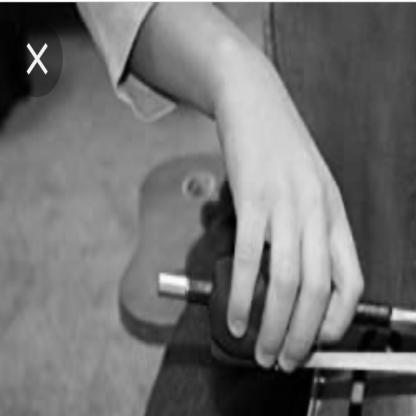good: (191, 121, 368, 378)
